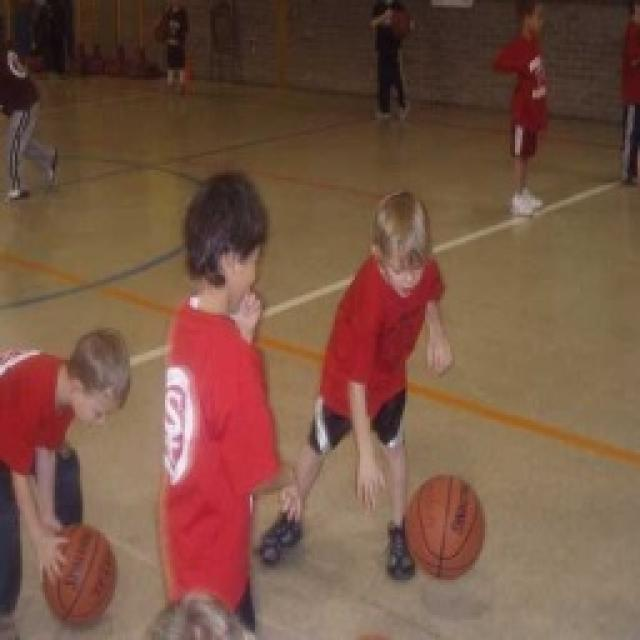rim: (404, 474, 486, 579), (48, 526, 120, 620)
